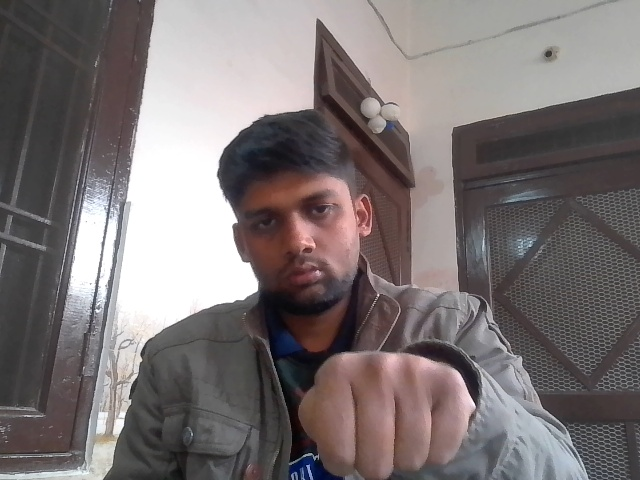Yes: (285, 329, 488, 480)
